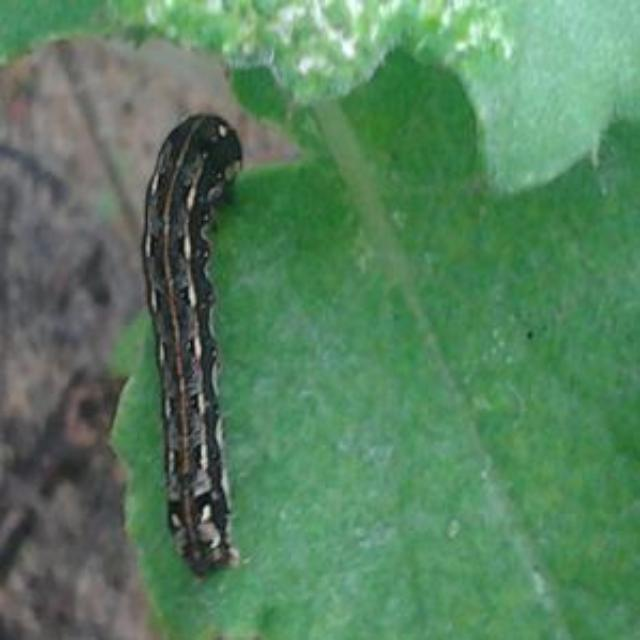Tobacco cutworm: (63, 73, 329, 573)
